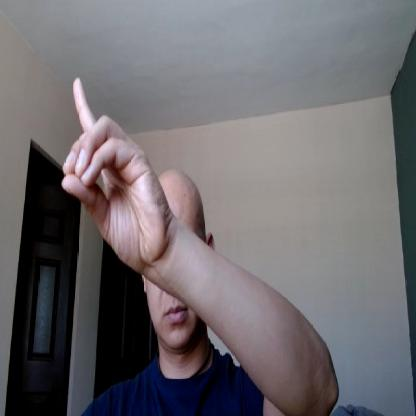D: (61, 76, 168, 264)
